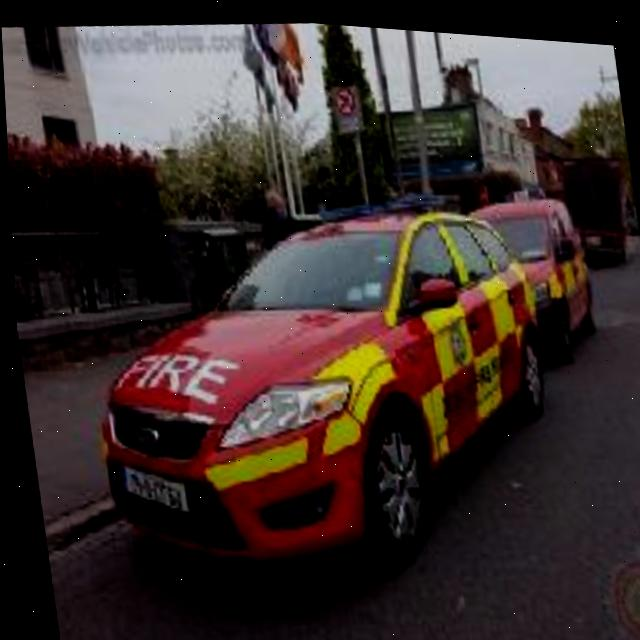emergency: (33, 150, 552, 590), (500, 178, 603, 348)
